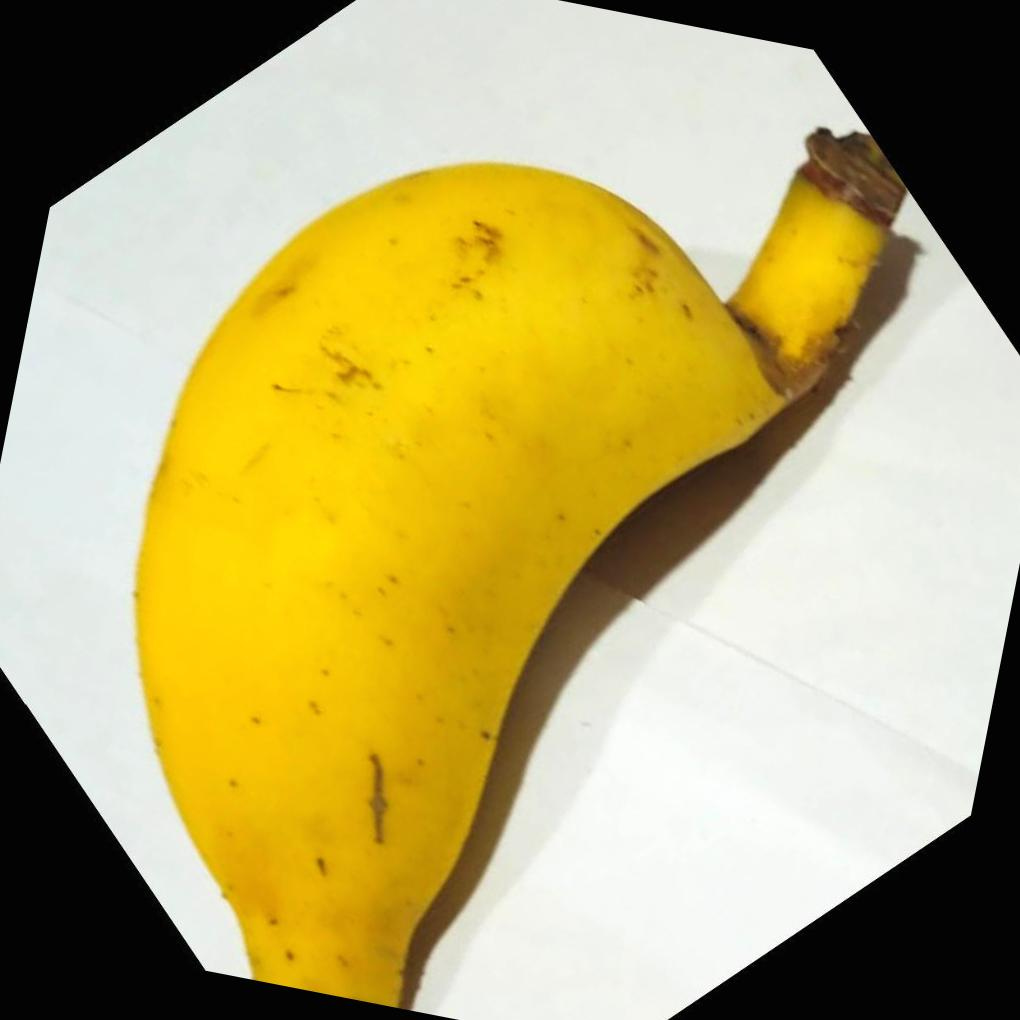Banana Ripe: (71, 48, 911, 1020)
